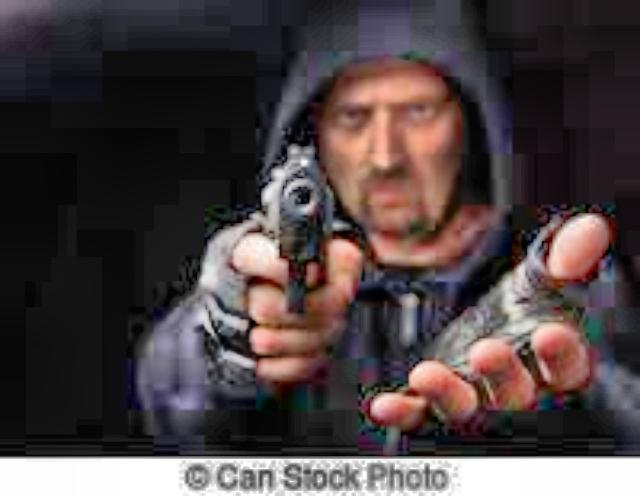pistol: (256, 134, 340, 310)
